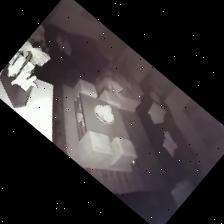person: (95, 76, 126, 95)
